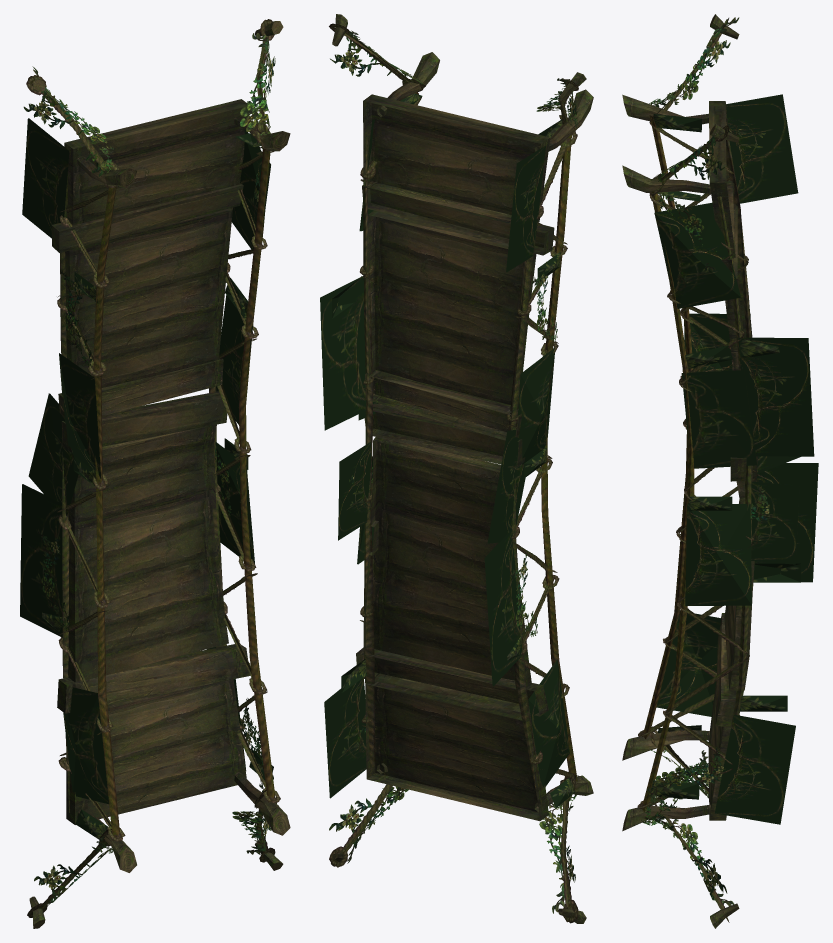
The model's file is beiou_yewai_329_diaoqiang_a.obj.
3 renders of one model, left to right at view 1: azimuth 30°, elevation 25°; view 2: azimuth 150°, elevation 25°; view 3: azimuth 270°, elevation 25°, orthographic. The views are drawn at different scales.
Visible parts, largest first — view 1: beiou_yewai_329_diaoqiang_a; view 2: beiou_yewai_329_diaoqiang_a; view 3: beiou_yewai_329_diaoqiang_a.
Part boxes in pixels (x1,y1,x2,y2): beiou_yewai_329_diaoqiang_a: (20, 19, 290, 928); beiou_yewai_329_diaoqiang_a: (320, 14, 593, 923); beiou_yewai_329_diaoqiang_a: (622, 14, 818, 928).
Size of the model in its own units: 552 by 1719 by 378.
5 materials, 5 textured.
